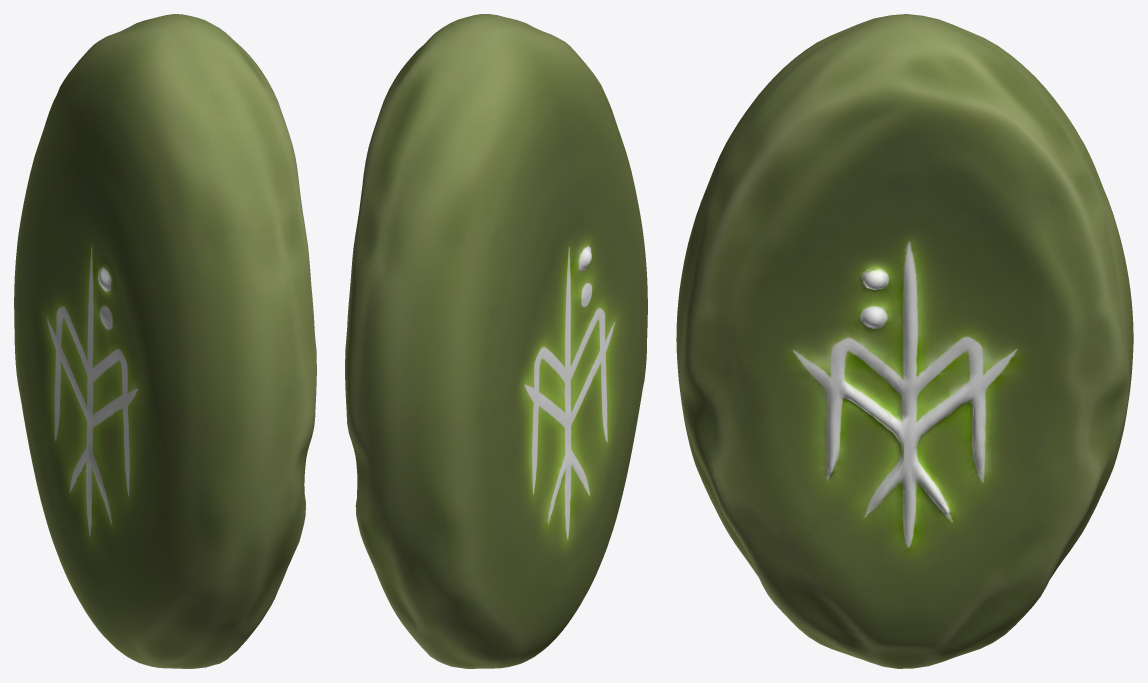
File: rune+stone+3d+model (1).fbx
The picture shows the model from 3 angles, left to right: view 1: azimuth 30°, elevation 25°; view 2: azimuth 150°, elevation 25°; view 3: azimuth 270°, elevation 25°; orthographic projection. The views are drawn at different scales.
Visible parts, largest first — view 1: tripo_node_7287fa85; view 2: tripo_node_7287fa85; view 3: tripo_node_7287fa85.
Part boxes in pixels (<box>): tripo_node_7287fa85: <box>14,14,316,668</box>; tripo_node_7287fa85: <box>345,14,647,668</box>; tripo_node_7287fa85: <box>676,14,1133,668</box>.
Size of the model in its own units: 0.269 by 0.9967 by 0.6387.
1 material, 1 textured.
